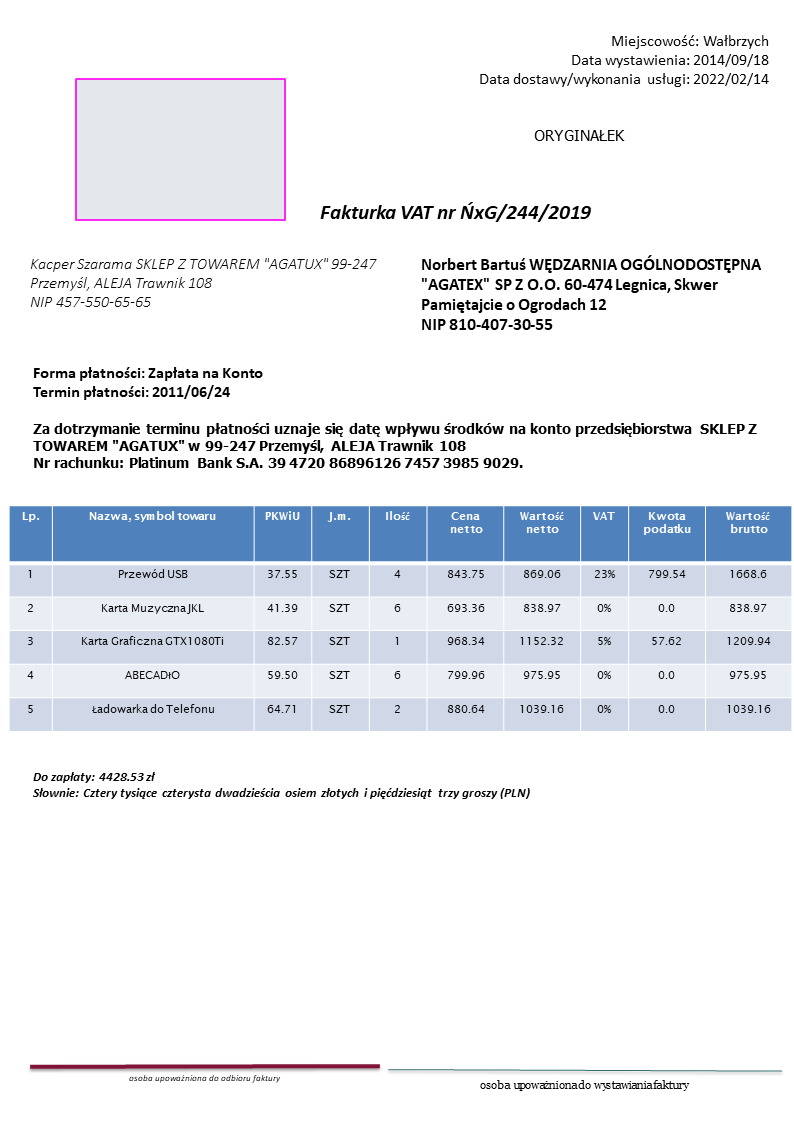Table: (8, 504, 794, 732)
TextBox: (29, 420, 760, 472), (416, 255, 764, 333), (27, 254, 378, 313), (29, 767, 531, 804), (474, 30, 773, 92), (30, 363, 267, 404), (317, 200, 593, 223), (477, 1076, 690, 1096), (126, 1071, 284, 1087), (531, 125, 625, 146)
